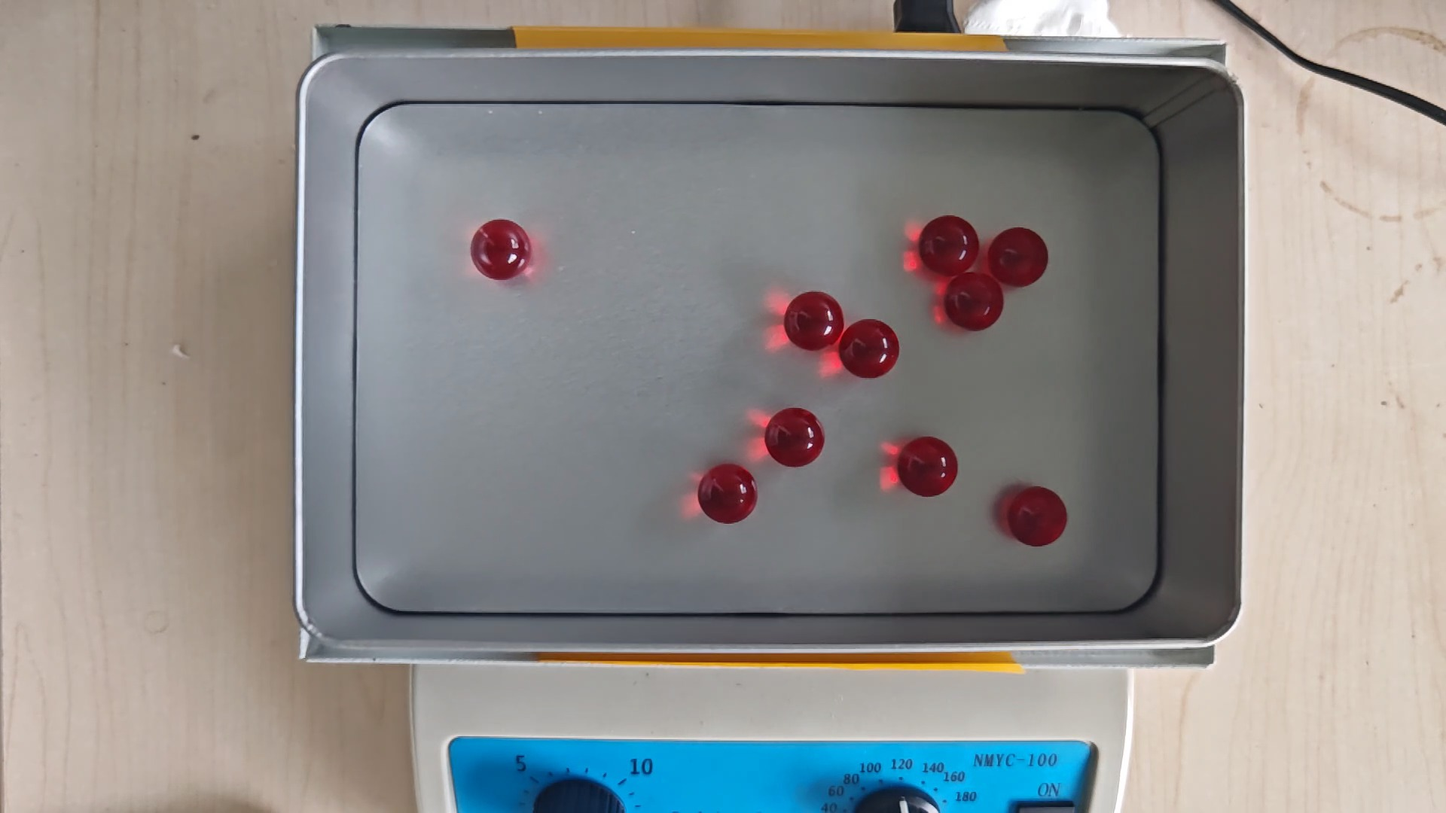ball: (470, 218, 531, 281), (698, 463, 758, 525), (785, 290, 844, 353), (1008, 486, 1068, 547), (898, 436, 958, 497), (766, 407, 825, 469), (840, 318, 899, 379), (990, 226, 1048, 287), (919, 215, 978, 274), (946, 272, 1004, 332)
container: (353, 98, 1168, 615)
